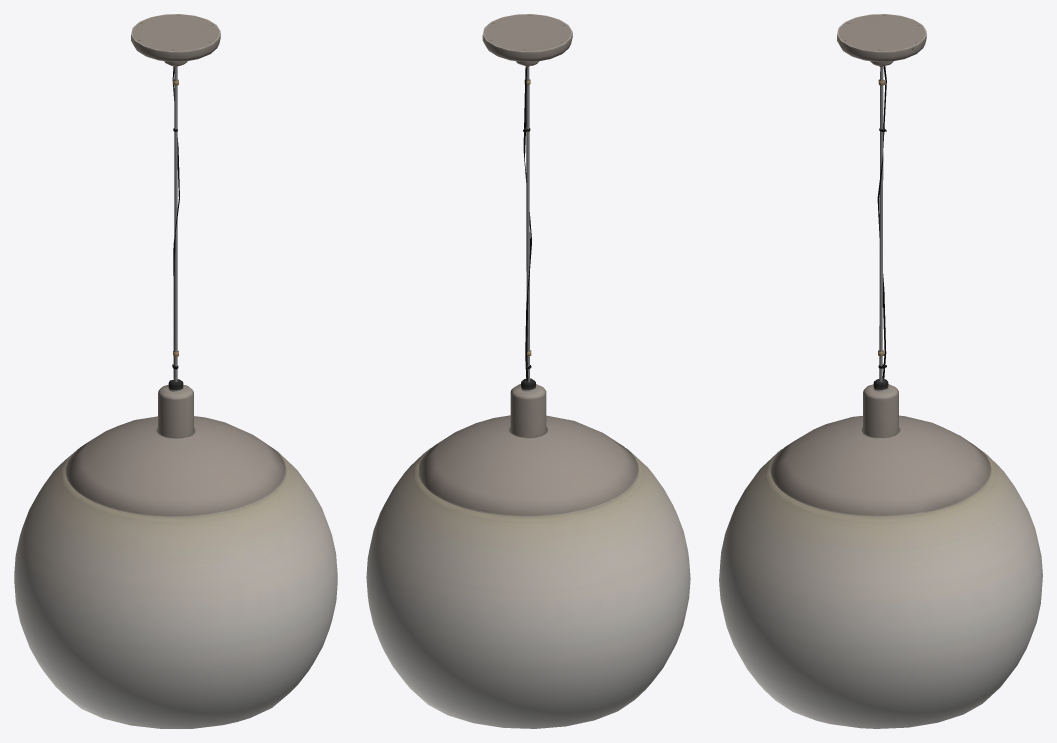
The model's file is modern_ceiling_lamp_01.glb.
3 renders of one model, left to right at view 1: azimuth 30°, elevation 25°; view 2: azimuth 150°, elevation 25°; view 3: azimuth 270°, elevation 25°, orthographic.
Visible parts, largest first — view 1: modern_ceiling_lamp_01; view 2: modern_ceiling_lamp_01; view 3: modern_ceiling_lamp_01.
Part boxes in pixels (x1,y1,x2,y2): modern_ceiling_lamp_01: (14,14,337,728); modern_ceiling_lamp_01: (366,14,690,728); modern_ceiling_lamp_01: (719,14,1042,728).
Bounding box in the file's own units: 0.4316 × 0.9512 × 0.4317.
Materials: 2 (2 with a texture image).
